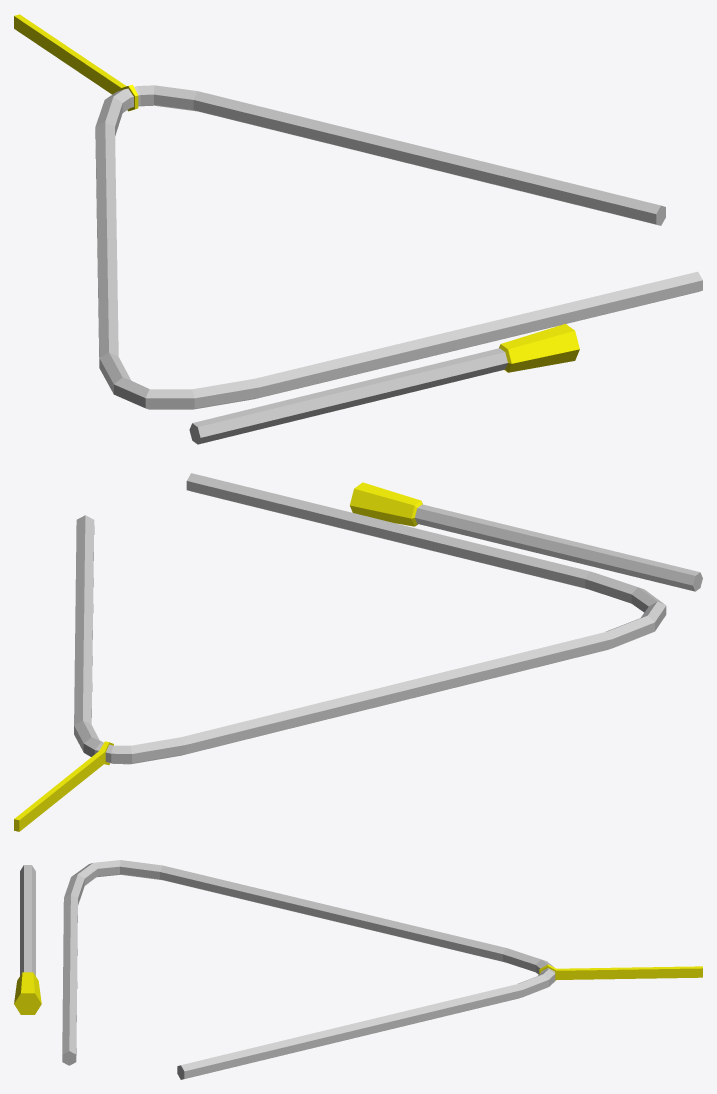
File: Triangle instrument.fbx
The picture shows the model from 3 angles, top to bottom: view 1: azimuth 30°, elevation 25°; view 2: azimuth 150°, elevation 25°; view 3: azimuth 270°, elevation 25°; orthographic projection. The views are drawn at different scales.
Visible parts, largest first — view 1: BezierCurve; view 2: BezierCurve; view 3: BezierCurve.
Part boxes in pixels (bbox=[...]): BezierCurve: bbox=[14, 14, 702, 444]; BezierCurve: bbox=[14, 473, 702, 831]; BezierCurve: bbox=[14, 860, 702, 1079].
Bounding box in the file's own units: 14.94 × 0.7215 × 20.64.
